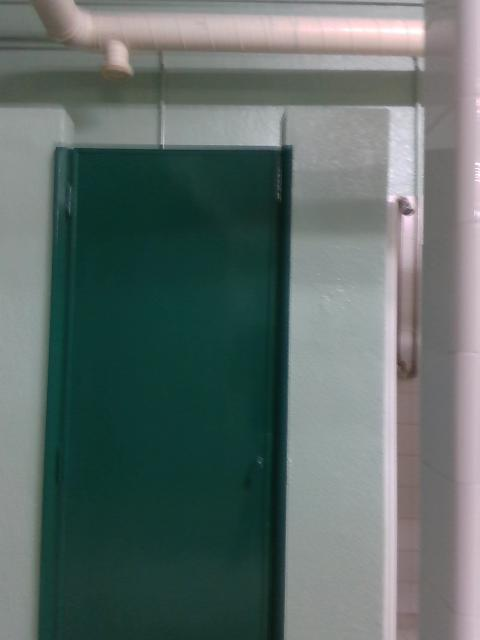door: (57, 147, 277, 640)
